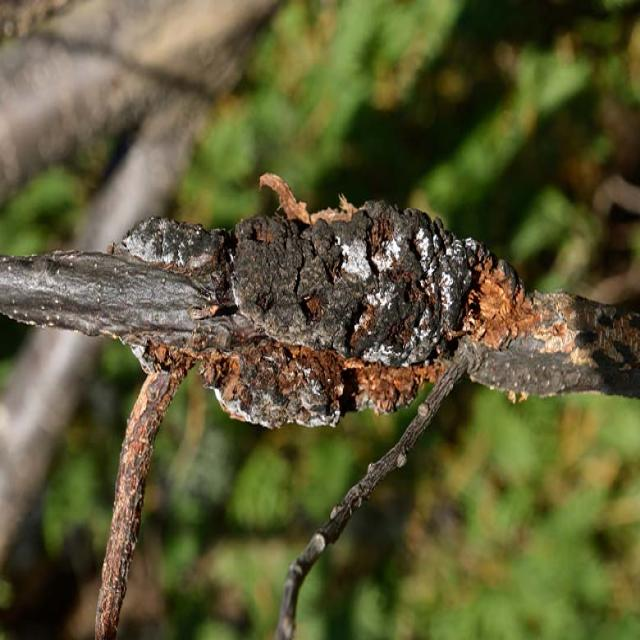Black_knot: (229, 193, 474, 369)
